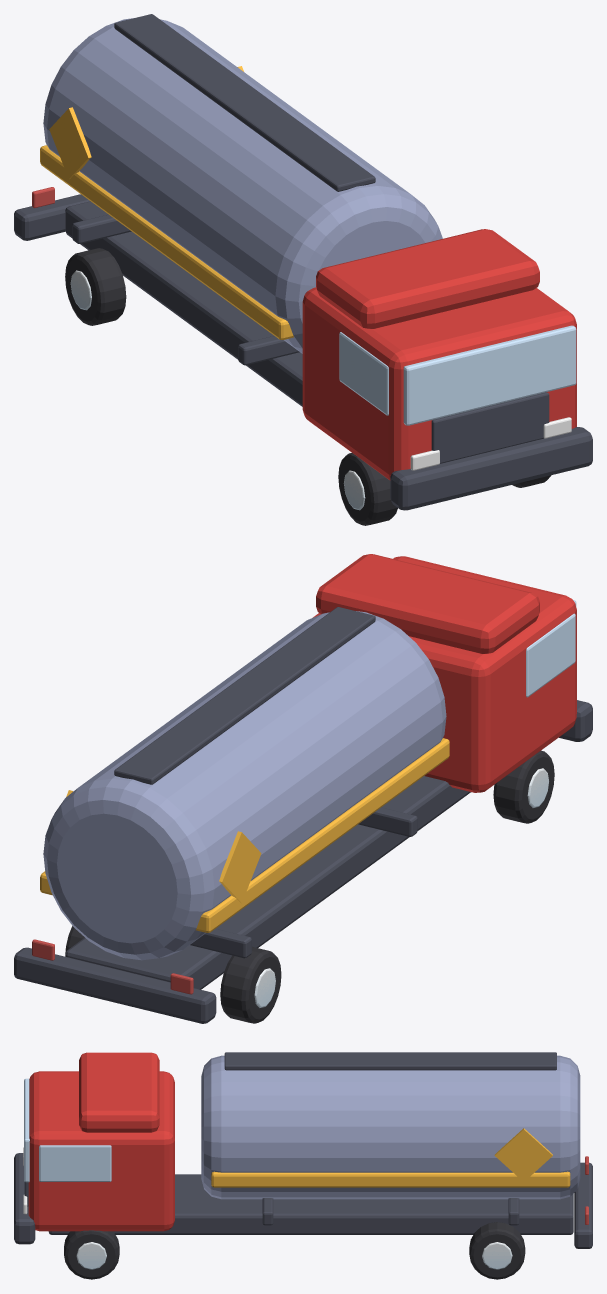
File: toy-tanker.glb
3 renders of one model, top to bottom at view 1: azimuth 30°, elevation 25°; view 2: azimuth 150°, elevation 25°; view 3: azimuth 270°, elevation 25°, orthographic. The views are drawn at different scales.
Parts seen in each view (by area): view 1: body, wheel-back-right.001, wheel-front-right.001; view 2: body, wheel-back-right.001, wheel-front-right.001; view 3: body, wheel-back-left.001, wheel-front-left.001.
Part boxes in pixels (left/top/right/bottom): body: left=14, top=14, right=592, bottom=510; wheel-back-right.001: left=65, top=248, right=126, bottom=325; wheel-front-right.001: left=338, top=453, right=397, bottom=525; body: left=14, top=554, right=592, bottom=1023; wheel-back-right.001: left=220, top=946, right=281, bottom=1023; wheel-front-right.001: left=493, top=750, right=554, bottom=823; body: left=14, top=1052, right=592, bottom=1248; wheel-back-left.001: left=469, top=1222, right=525, bottom=1279; wheel-front-left.001: left=64, top=1230, right=119, bottom=1279.
Size of the model in its own units: 1.79 by 2.24 by 6.22.
Materials: 1 (1 with a texture image).
